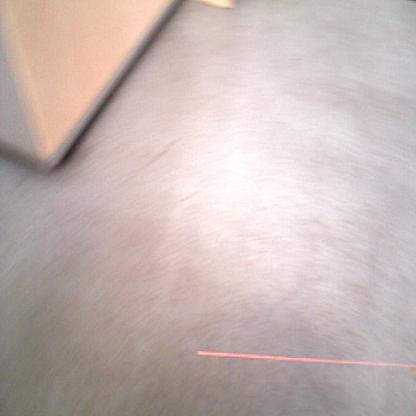dirty: (410, 368, 416, 379)
mark: (142, 136, 183, 168), (176, 188, 199, 204)
